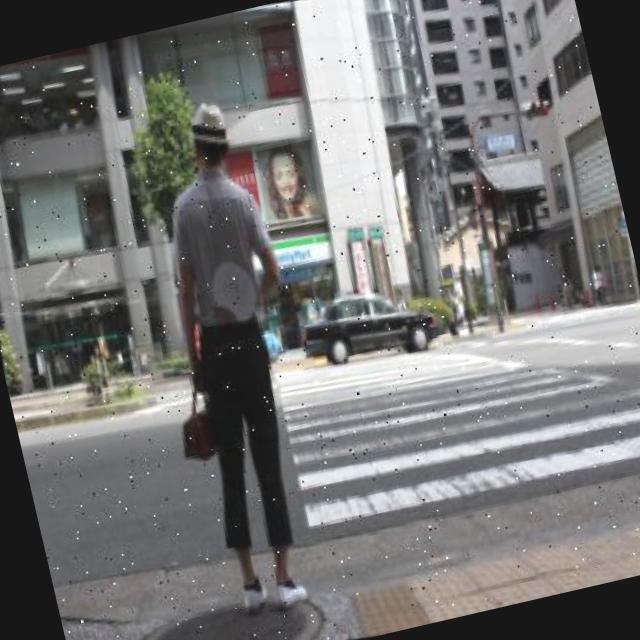Person: (114, 94, 358, 624)
